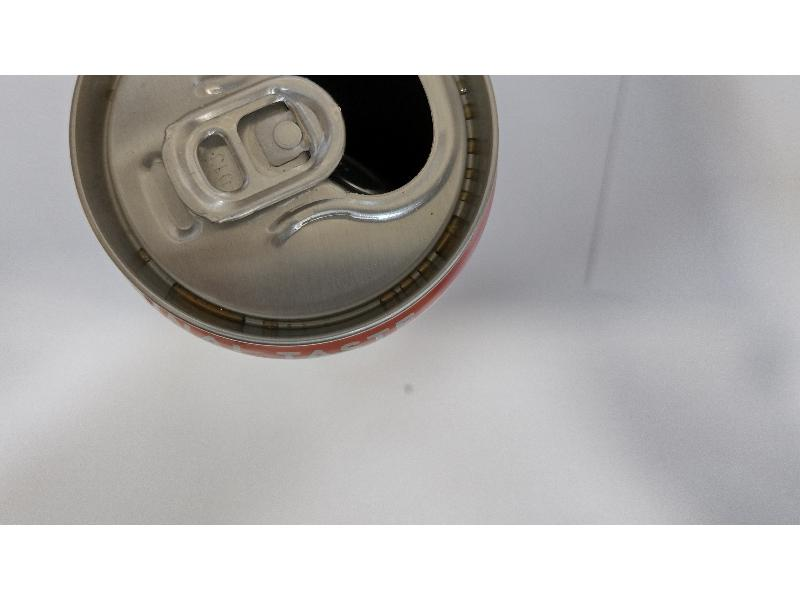can: (56, 72, 510, 365)
